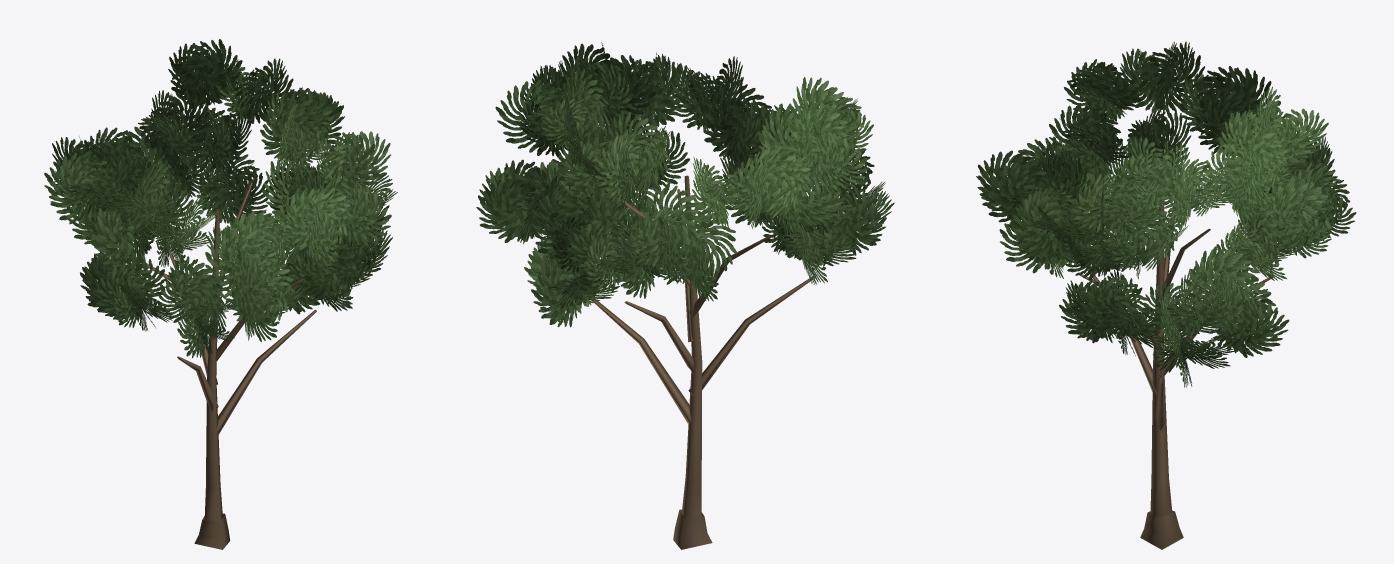
3 views of the same model, side by side, from view 1: azimuth 30°, elevation 25°; view 2: azimuth 150°, elevation 25°; view 3: azimuth 270°, elevation 25° (orthographic). The views are drawn at different scales.
Parts seen in each view (by area): view 1: Preserved terminal foliage sprays, Connected simplified trunk and branches; view 2: Preserved terminal foliage sprays, Connected simplified trunk and branches; view 3: Preserved terminal foliage sprays, Connected simplified trunk and branches.
Boxes of the visible parts, x1,y1,x2,y2 form: Preserved terminal foliage sprays: [44, 39, 397, 358]; Connected simplified trunk and branches: [140, 182, 316, 549]; Preserved terminal foliage sprays: [476, 42, 894, 327]; Connected simplified trunk and branches: [590, 175, 814, 549]; Preserved terminal foliage sprays: [976, 41, 1356, 387]; Connected simplified trunk and branches: [1079, 183, 1272, 549].
Size of the model in its own units: 8.68 by 10.06 by 8.
